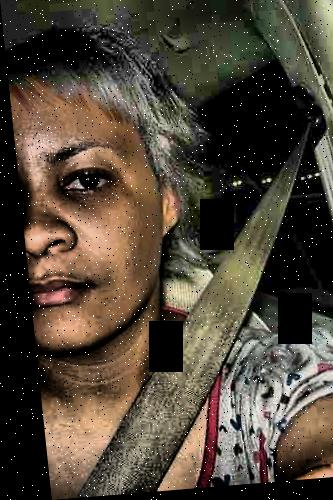seatbelt: (38, 111, 333, 483)
